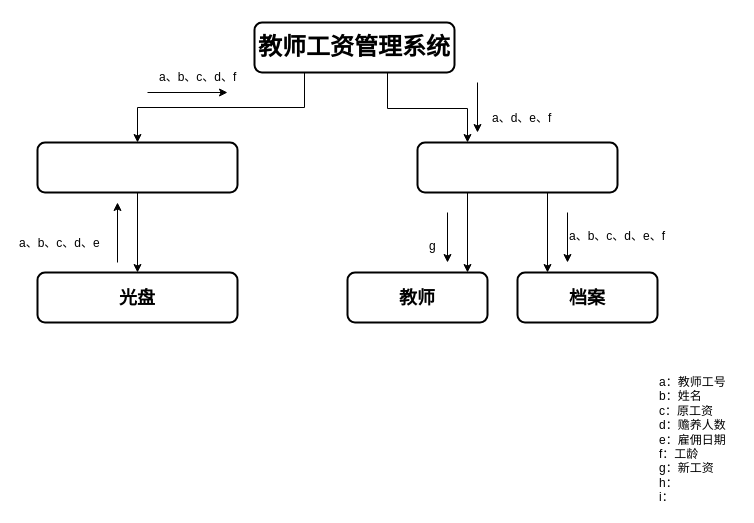
This 754x523 diagram has some shape labels left out. The shapes that lost their labels are listed below. From the top down, each one's centre as x and y in pixels, then its label:
(x=137, y=167): 行政办公室
(x=517, y=167): 工资处理
